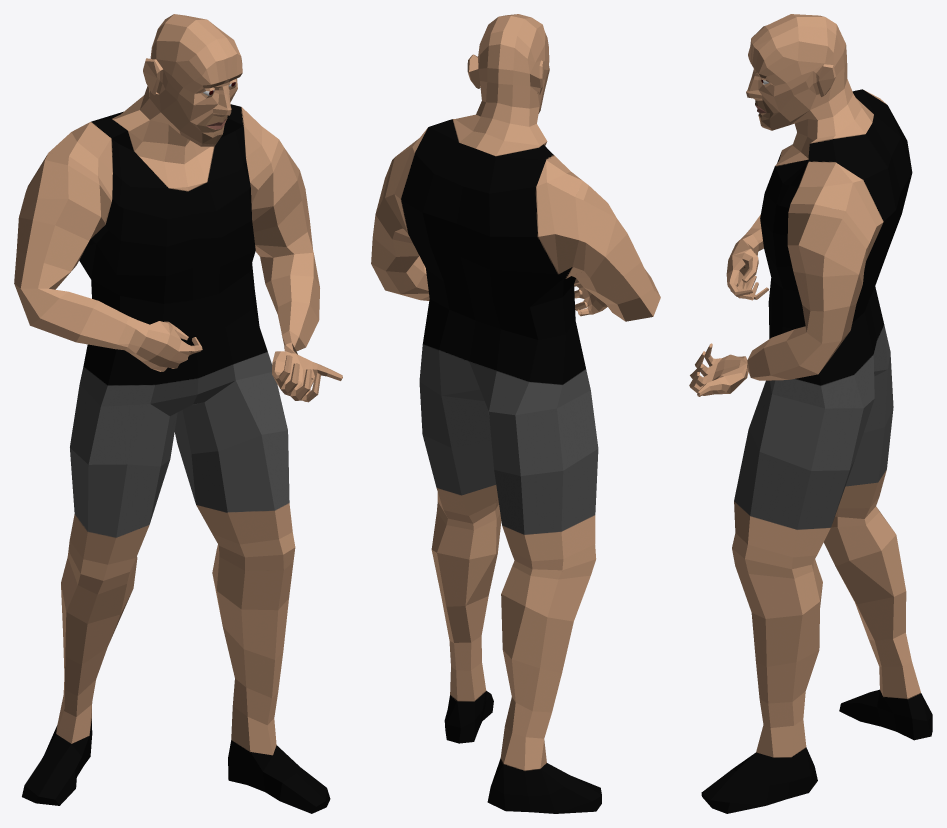
Rendered from PlayerIdle(177).obj.
3 views of the same model, side by side, from view 1: azimuth 30°, elevation 25°; view 2: azimuth 150°, elevation 25°; view 3: azimuth 270°, elevation 25° (orthographic). The views are drawn at different scales.
Parts seen in each view (by area): view 1: Plane002; view 2: Plane002; view 3: Plane002.
Boxes of the visible parts, x1,y1,x2,y2 form: Plane002: (14,14,342,813); Plane002: (371,14,660,813); Plane002: (689,14,932,813).
Bounding box in the file's own units: 712 × 1801 × 530.
